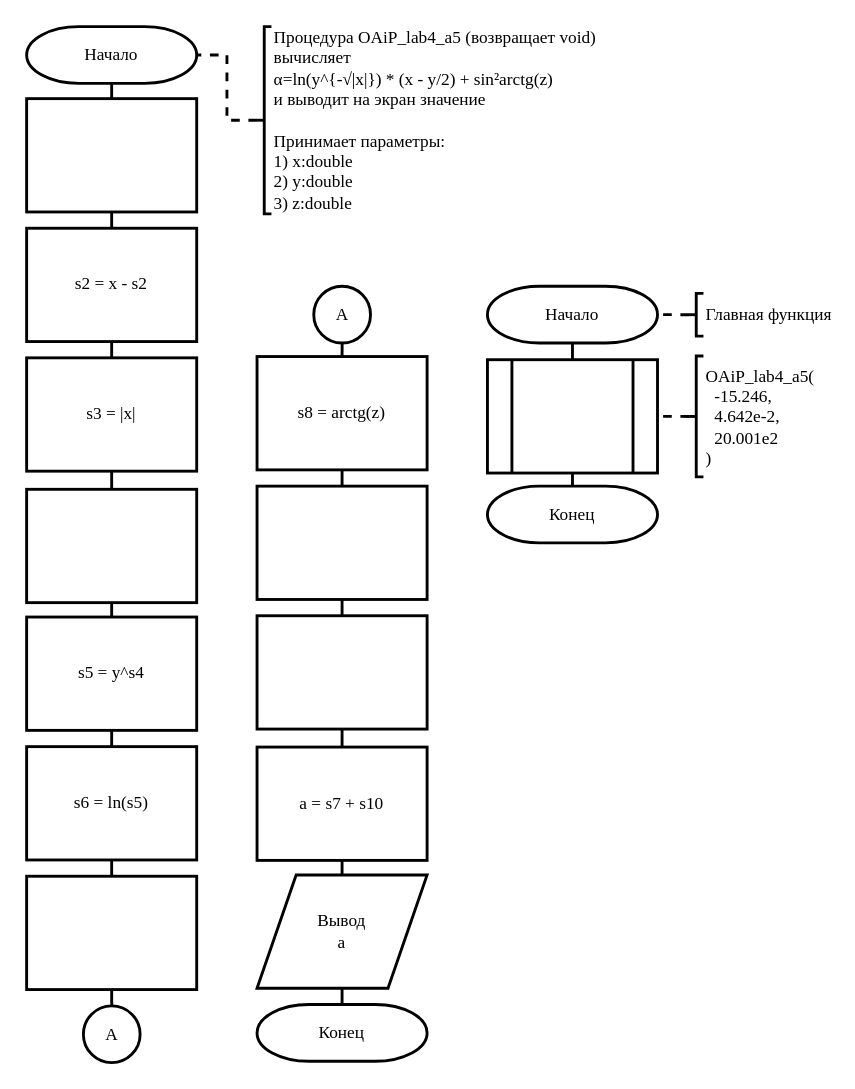
The diagram is 855 pixels wide and 1089 high, and some of its shapes have lost their labels. Here are the shapes that lost their labels. From the top down, the centre of each, then its label:
At point 110,154: "s1 = y/2".
At point 571,416: "Вызов функции".
At point 110,545: "s4 = -√s3".
At point 341,542: "s9 = sin(s8)".
At point 341,672: "s10 = s9^2".
At point 110,932: "s7 = s6 * s2".
